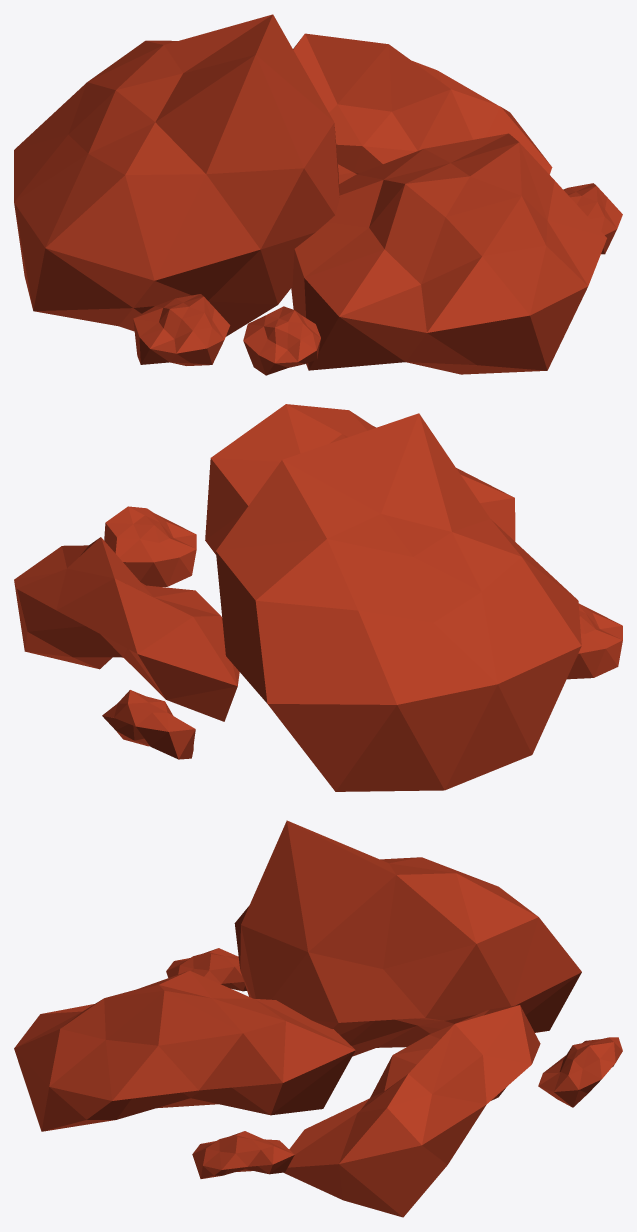
File: node_copper.glb
3 views of the same model, one above another, from view 1: azimuth 30°, elevation 25°; view 2: azimuth 150°, elevation 25°; view 3: azimuth 270°, elevation 25° (orthographic). The views are drawn at different scales.
Visible parts, largest first — view 1: Icosphere, Icosphere.001, Icosphere.006, Icosphere.005, Icosphere.002, Icosphere.003; view 2: Icosphere, Icosphere.006, Icosphere.001, Icosphere.003, Icosphere.004, Icosphere.005; view 3: Icosphere, Icosphere.001, Icosphere.006, Icosphere.003, Icosphere.004, Icosphere.005.
Boxes of the visible parts, x1,y1,x2,y2 form: Icosphere: [14, 14, 339, 336]; Icosphere.001: [291, 133, 606, 374]; Icosphere.006: [293, 33, 552, 183]; Icosphere.005: [133, 294, 230, 365]; Icosphere.002: [243, 306, 320, 375]; Icosphere.003: [563, 183, 622, 254]; Icosphere: [216, 413, 581, 791]; Icosphere.006: [14, 537, 239, 721]; Icosphere.001: [205, 404, 515, 554]; Icosphere.003: [104, 506, 196, 586]; Icosphere.004: [102, 690, 195, 759]; Icosphere.005: [567, 603, 622, 679]; Icosphere: [234, 820, 581, 1056]; Icosphere.001: [14, 970, 355, 1131]; Icosphere.006: [284, 1005, 540, 1217]; Icosphere.003: [192, 1131, 294, 1178]; Icosphere.004: [538, 1037, 622, 1107]; Icosphere.005: [166, 948, 246, 991].
Bounding box in the file's own units: 1.11 × 0.6046 × 1.22.
